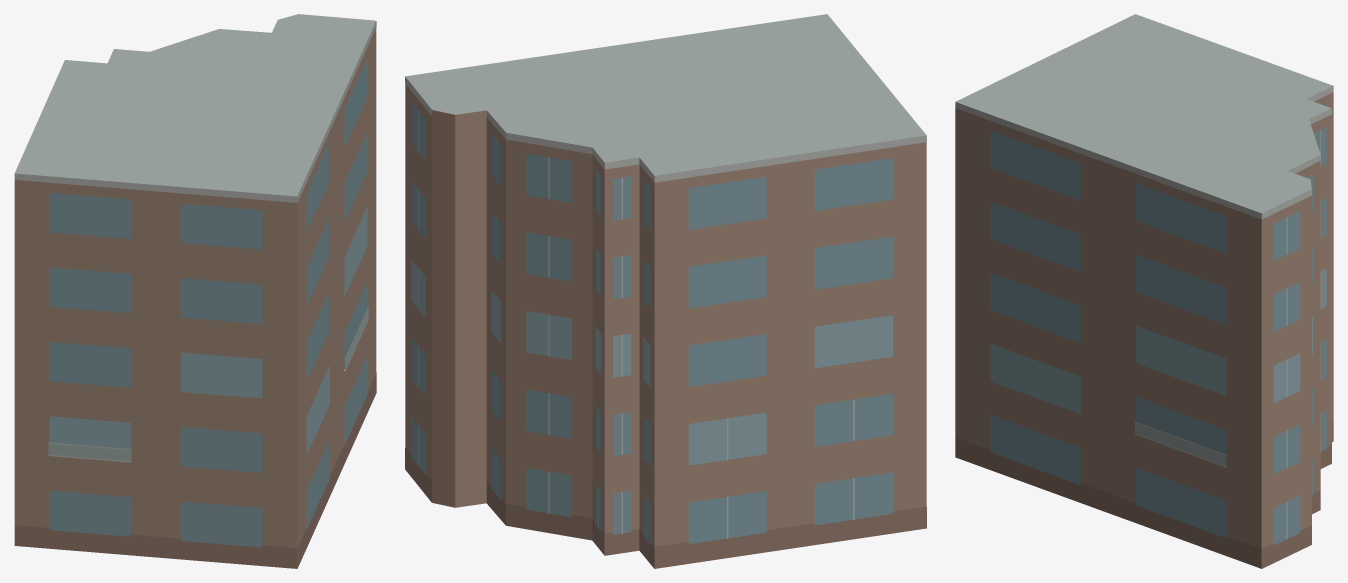
File: survey-upis-32525684.glb
3 renders of one model, left to right at view 1: azimuth 30°, elevation 25°; view 2: azimuth 150°, elevation 25°; view 3: azimuth 270°, elevation 25°, orthographic. The views are drawn at different scales.
Visible parts, largest first — view 1: survey-upis-32525684.tmp; view 2: survey-upis-32525684.tmp; view 3: survey-upis-32525684.tmp.
Part boxes in pixels (x1,y1,x2,y2): survey-upis-32525684.tmp: (14, 14, 376, 568); survey-upis-32525684.tmp: (405, 14, 926, 568); survey-upis-32525684.tmp: (955, 14, 1333, 568).
Size of the model in its own units: 17.09 by 14.2 by 13.71.
